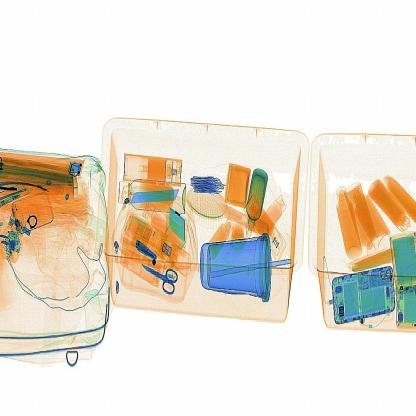pliers: (123, 184, 180, 212)
